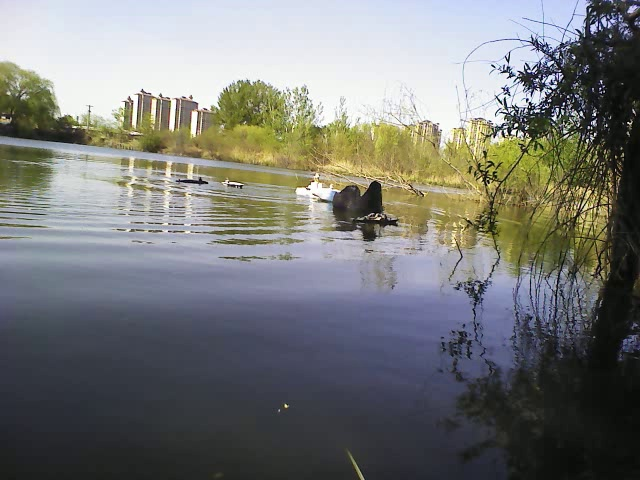boat: (296, 172, 340, 202)
rock: (336, 170, 387, 213)
submarine: (174, 172, 209, 187)
warship: (350, 207, 401, 227)
